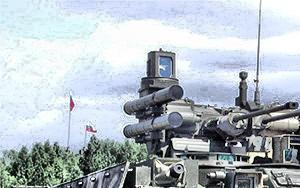tanks: (49, 51, 300, 188)
